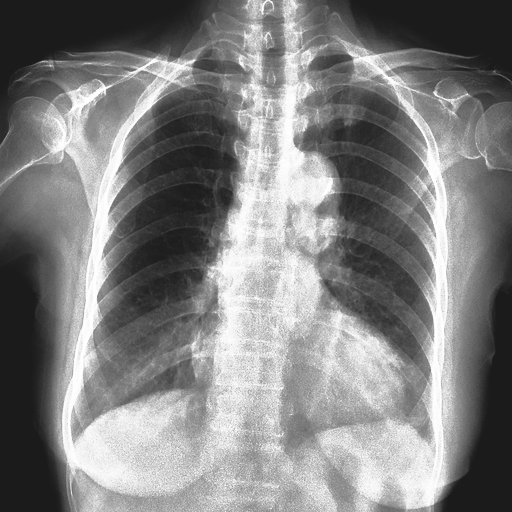Consolidation: (285, 150, 346, 247)
Nodule/Mass: (188, 339, 416, 428)
